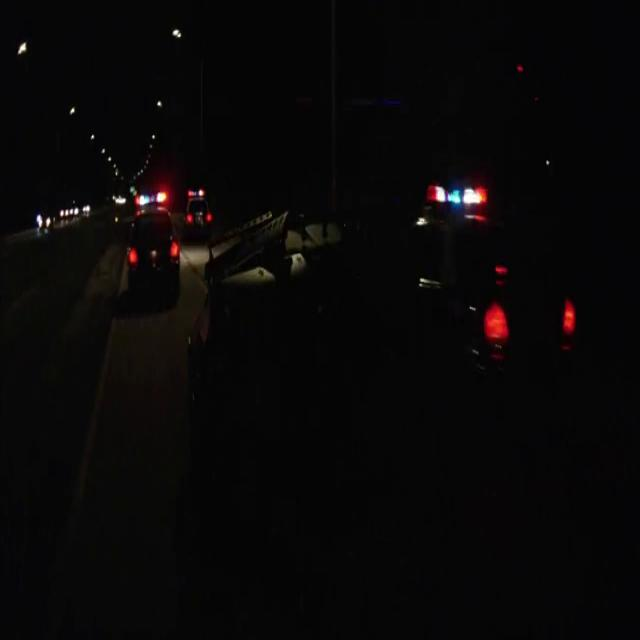car: (192, 202, 405, 529), (399, 165, 601, 409), (122, 163, 192, 343), (177, 165, 219, 258)
